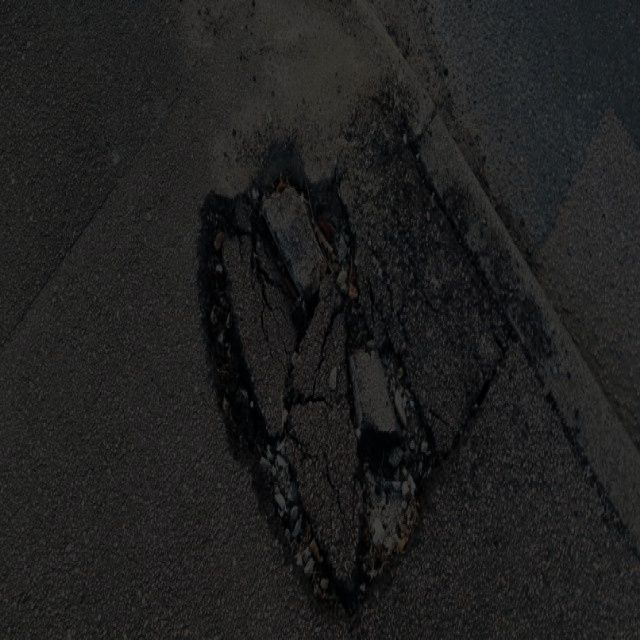Pothole: (193, 96, 512, 622)
